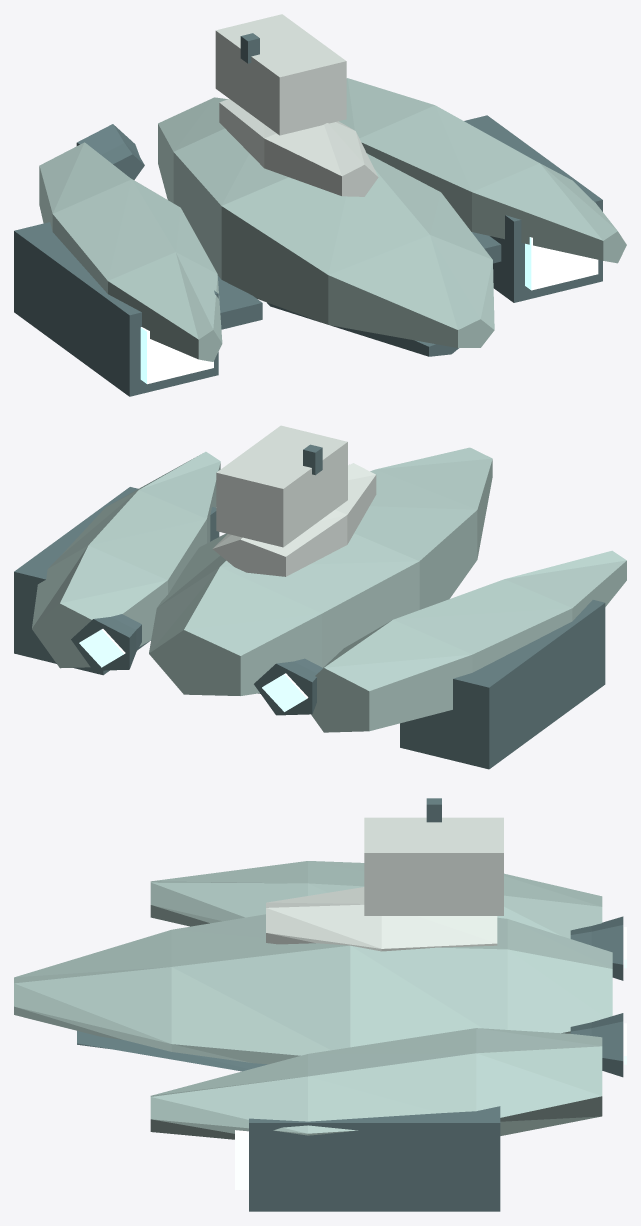
3 renders of one model, top to bottom at view 1: azimuth 30°, elevation 25°; view 2: azimuth 150°, elevation 25°; view 3: azimuth 270°, elevation 25°, orthographic. The views are drawn at different scales.
Bounding box in the file's own units: 17.24 × 8.49 × 17.57.
